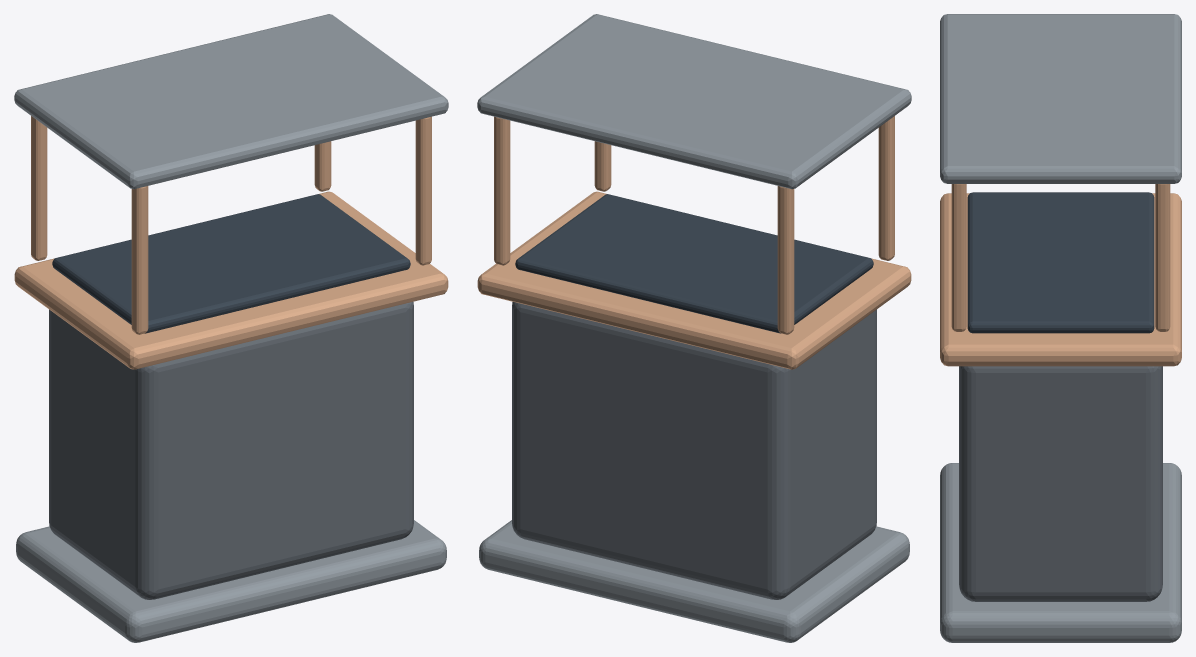
The model's file is library_display_case.glb.
3 renders of one model, left to right at view 1: azimuth 30°, elevation 25°; view 2: azimuth 150°, elevation 25°; view 3: azimuth 270°, elevation 25°, orthographic.
Parts seen in each view (by area): view 1: shell_002, shell_009, shell_004, shell_001, shell_003, shell_006, shell_008, shell_005, shell_007; view 2: shell_002, shell_009, shell_004, shell_001, shell_003, shell_005, shell_007, shell_006, shell_008; view 3: shell_002, shell_009, shell_004, shell_001, shell_003, shell_007, shell_008.
Boxes of the visible parts, x1=… form: shell_002: x1=49, y1=302, x2=413, y2=599; shell_009: x1=14, y1=14, x2=448, y2=189; shell_004: x1=52, y1=194, x2=410, y2=333; shell_001: x1=16, y1=520, x2=446, y2=642; shell_003: x1=14, y1=191, x2=448, y2=369; shell_006: x1=131, y1=186, x2=148, y2=334; shell_008: x1=415, y1=116, x2=431, y2=265; shell_005: x1=31, y1=116, x2=47, y2=260; shell_007: x1=314, y1=141, x2=331, y2=191; shell_002: x1=512, y1=302, x2=876, y2=599; shell_009: x1=477, y1=14, x2=911, y2=189; shell_004: x1=515, y1=194, x2=873, y2=333; shell_001: x1=479, y1=520, x2=909, y2=642; shell_003: x1=477, y1=191, x2=911, y2=369; shell_005: x1=777, y1=186, x2=794, y2=334; shell_007: x1=494, y1=116, x2=510, y2=265; shell_006: x1=878, y1=116, x2=894, y2=260; shell_008: x1=594, y1=141, x2=611, y2=191; shell_002: x1=959, y1=366, x2=1162, y2=601; shell_009: x1=940, y1=14, x2=1181, y2=183; shell_004: x1=967, y1=192, x2=1154, y2=333; shell_001: x1=940, y1=463, x2=1181, y2=642; shell_003: x1=940, y1=193, x2=1181, y2=366; shell_007: x1=1155, y1=184, x2=1170, y2=331; shell_008: x1=951, y1=184, x2=966, y2=331.
Size of the model in its own units: 0.88 by 1.24 by 0.57.
